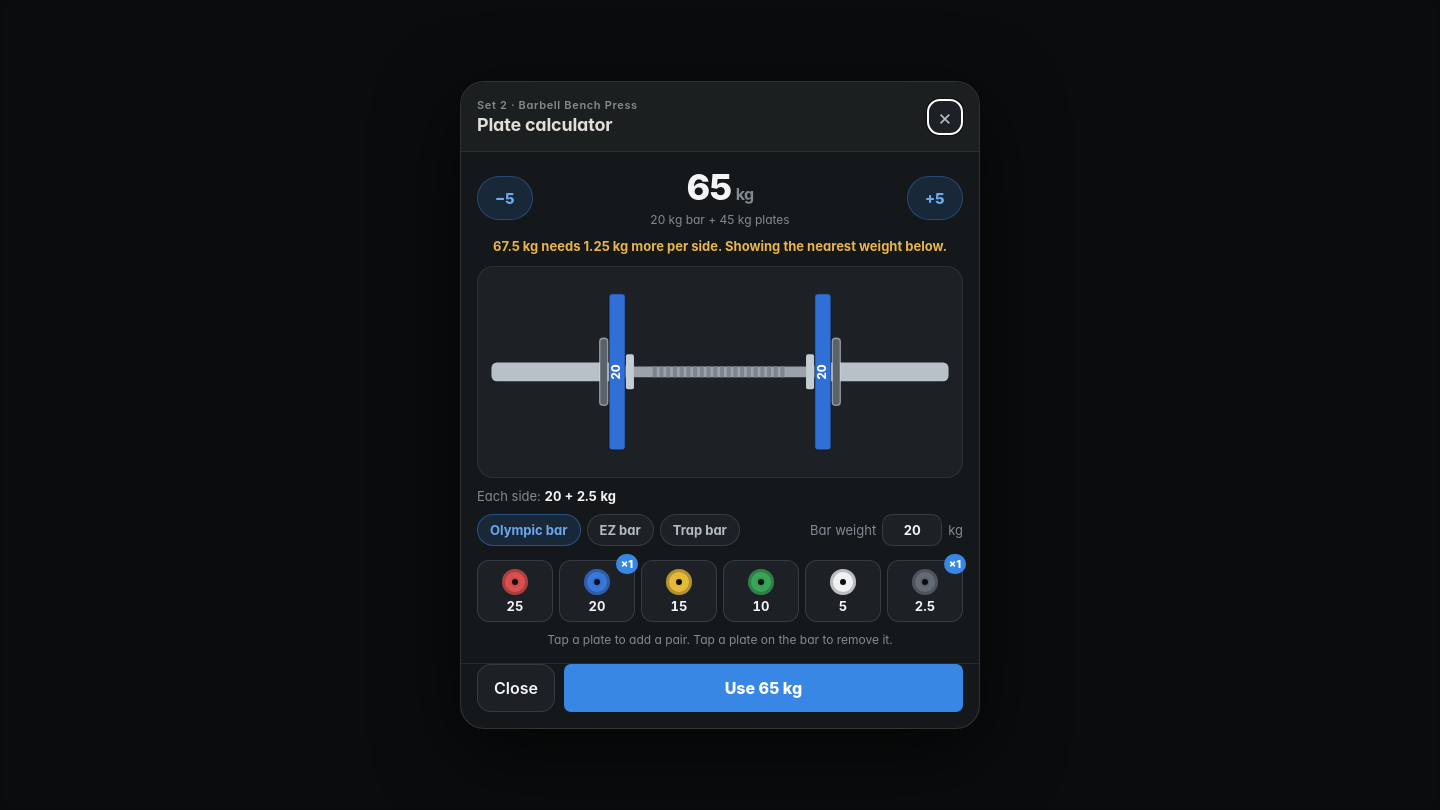
Test: plate calculator › steps by a pair of the lightest plates and explains weights it cannot load
The width and height of the screenshot is (1440, 810).
Expected: the button "Use 65 kg" is shown, x1=564 y1=664 x2=963 y2=712
Click the button "+5" at coordinates (935, 198), box x1=907 y1=176 x2=963 y2=220
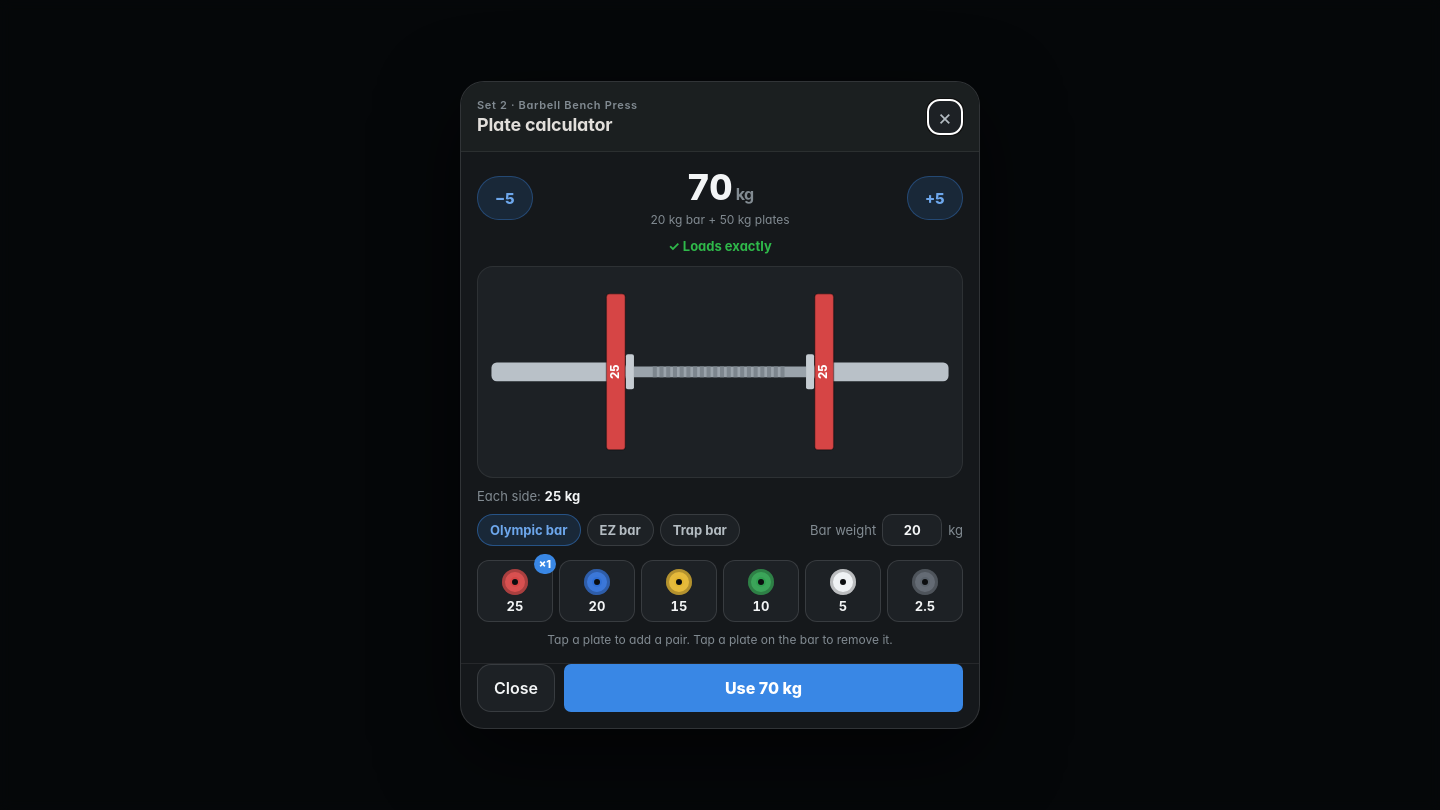
Result: the button "Use 70 kg" is shown at x1=564 y1=664 x2=963 y2=712
Result: the dialog shows "✓ Loads exactly" at x1=460 y1=81 x2=980 y2=729
